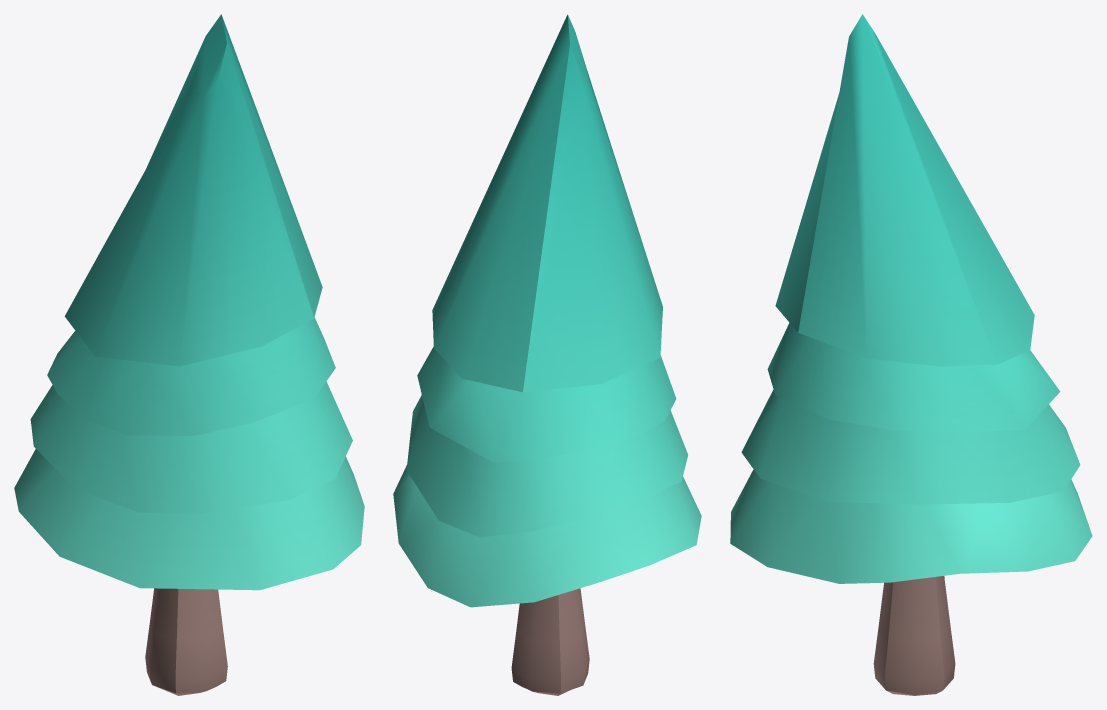
File: Tree02_S_Blue.fbx
The picture shows the model from 3 angles, left to right: view 1: azimuth 30°, elevation 25°; view 2: azimuth 150°, elevation 25°; view 3: azimuth 270°, elevation 25°; orthographic projection. The views are drawn at different scales.
Parts seen in each view (by area): view 1: Tree02_S_Blue; view 2: Tree02_S_Blue; view 3: Tree02_S_Blue.
Part boxes in pixels (box(x1,y1,x2,y2)): Tree02_S_Blue: box(14, 14, 364, 695); Tree02_S_Blue: box(393, 14, 701, 695); Tree02_S_Blue: box(730, 14, 1092, 695).
Size of the model in its own units: 4.13 by 9.16 by 4.45.
